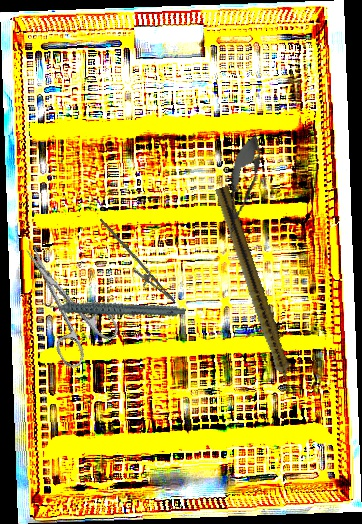Handpiece: (210, 185, 300, 398), (40, 268, 187, 345)
Iris Scissors: (3, 229, 126, 372)
Micro Scissor: (215, 129, 269, 244)
Needle Holder: (85, 217, 185, 310)
